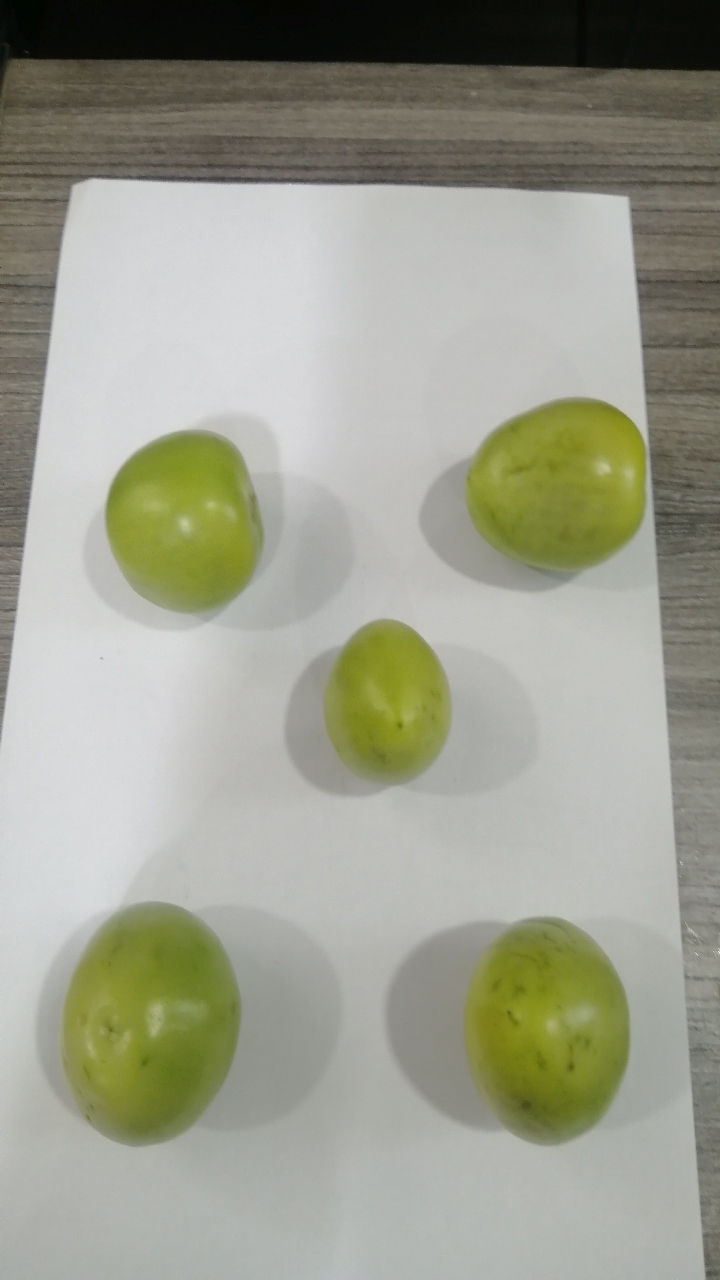tomateVerde: (31, 899, 284, 1165), (446, 897, 651, 1169), (61, 411, 308, 634), (452, 382, 669, 603), (312, 602, 504, 808)
